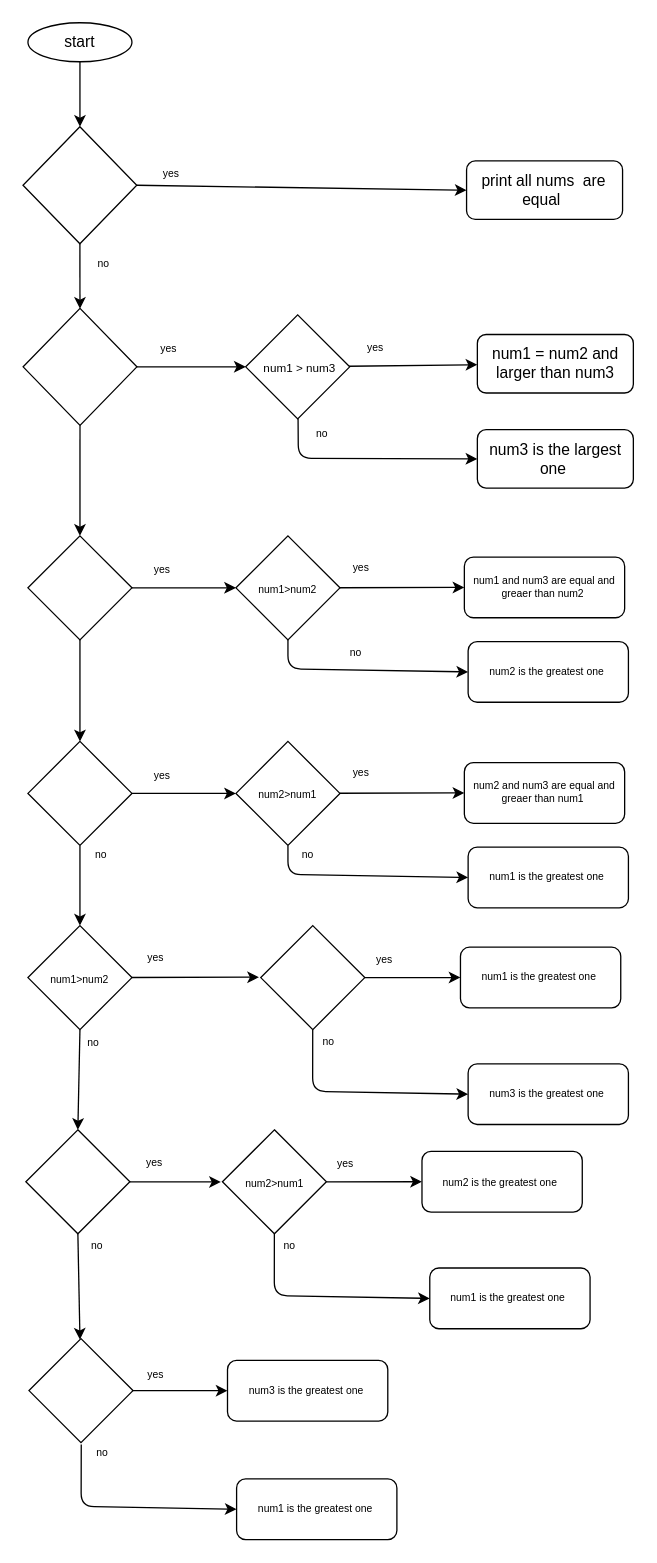
Some shapes in this 657 by 1563 pixel diagram are drawn without their labels. The centre of each missing label's shape, as x and y in pixels:
num1 == num2: the point at 79,366
num1 ==num3: the point at 79,587
num1==num2==num3: the point at 79,184
num1>num3: the point at 312,977
num2 ==num3: the point at 79,792
num2>num3: the point at 77,1181
num3>num1: the point at 80,1390
